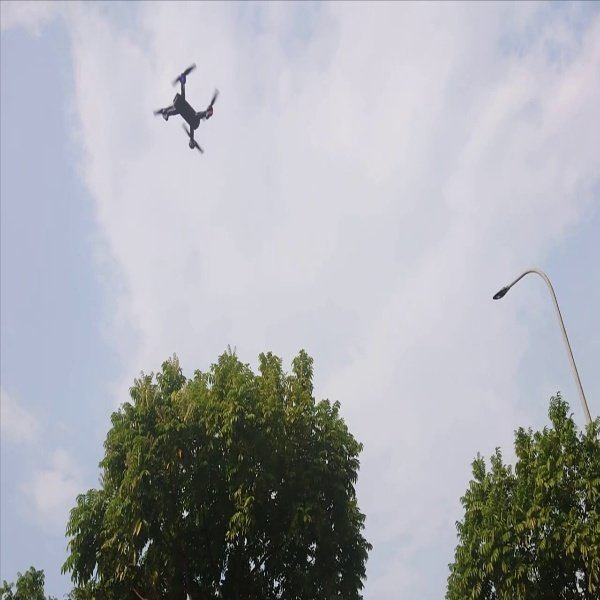drone: (150, 60, 221, 158)
